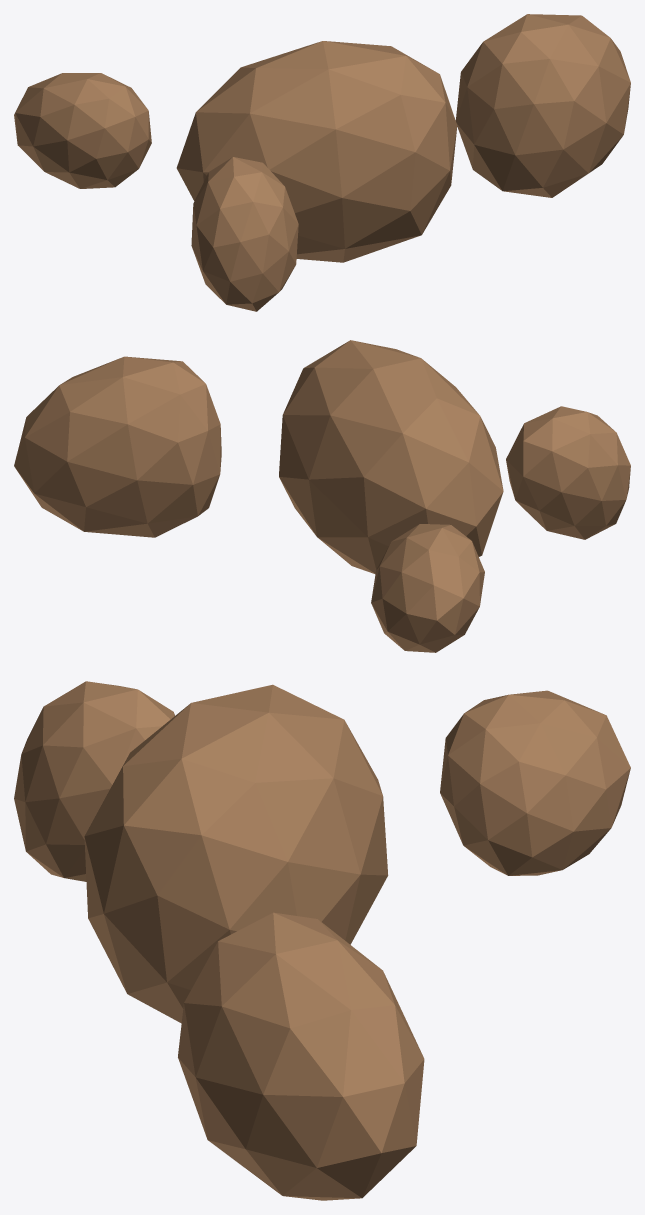
Rendered from potato_harvested.glb.
3 renders of one model, top to bottom at view 1: azimuth 30°, elevation 25°; view 2: azimuth 150°, elevation 25°; view 3: azimuth 270°, elevation 25°, orthographic. The views are drawn at different scales.
Parts seen in each view (by area): view 1: Icosphere, Icosphere.001, Icosphere.003, Icosphere.002; view 2: Icosphere, Icosphere.001, Icosphere.003, Icosphere.002; view 3: Icosphere, Icosphere.001, Icosphere.002, Icosphere.003.
Boxes of the visible parts, x1=… form: Icosphere: x1=176, y1=41, x2=457, y2=262; Icosphere.001: x1=455, y1=14, x2=630, y2=197; Icosphere.003: x1=191, y1=157, x2=298, y2=311; Icosphere.002: x1=14, y1=73, x2=151, y2=188; Icosphere: x1=279, y1=340, x2=503, y2=574; Icosphere.001: x1=14, y1=356, x2=221, y2=537; Icosphere.003: x1=506, y1=406, x2=630, y2=539; Icosphere.002: x1=371, y1=524, x2=484, y2=652; Icosphere: x1=84, y1=684, x2=388, y2=1023; Icosphere.001: x1=178, y1=912, x2=424, y2=1200; Icosphere.002: x1=440, y1=690, x2=630, y2=875; Icosphere.003: x1=14, y1=681, x2=174, y2=881.
Size of the model in its own units: 0.3367 by 0.1307 by 0.2384.
